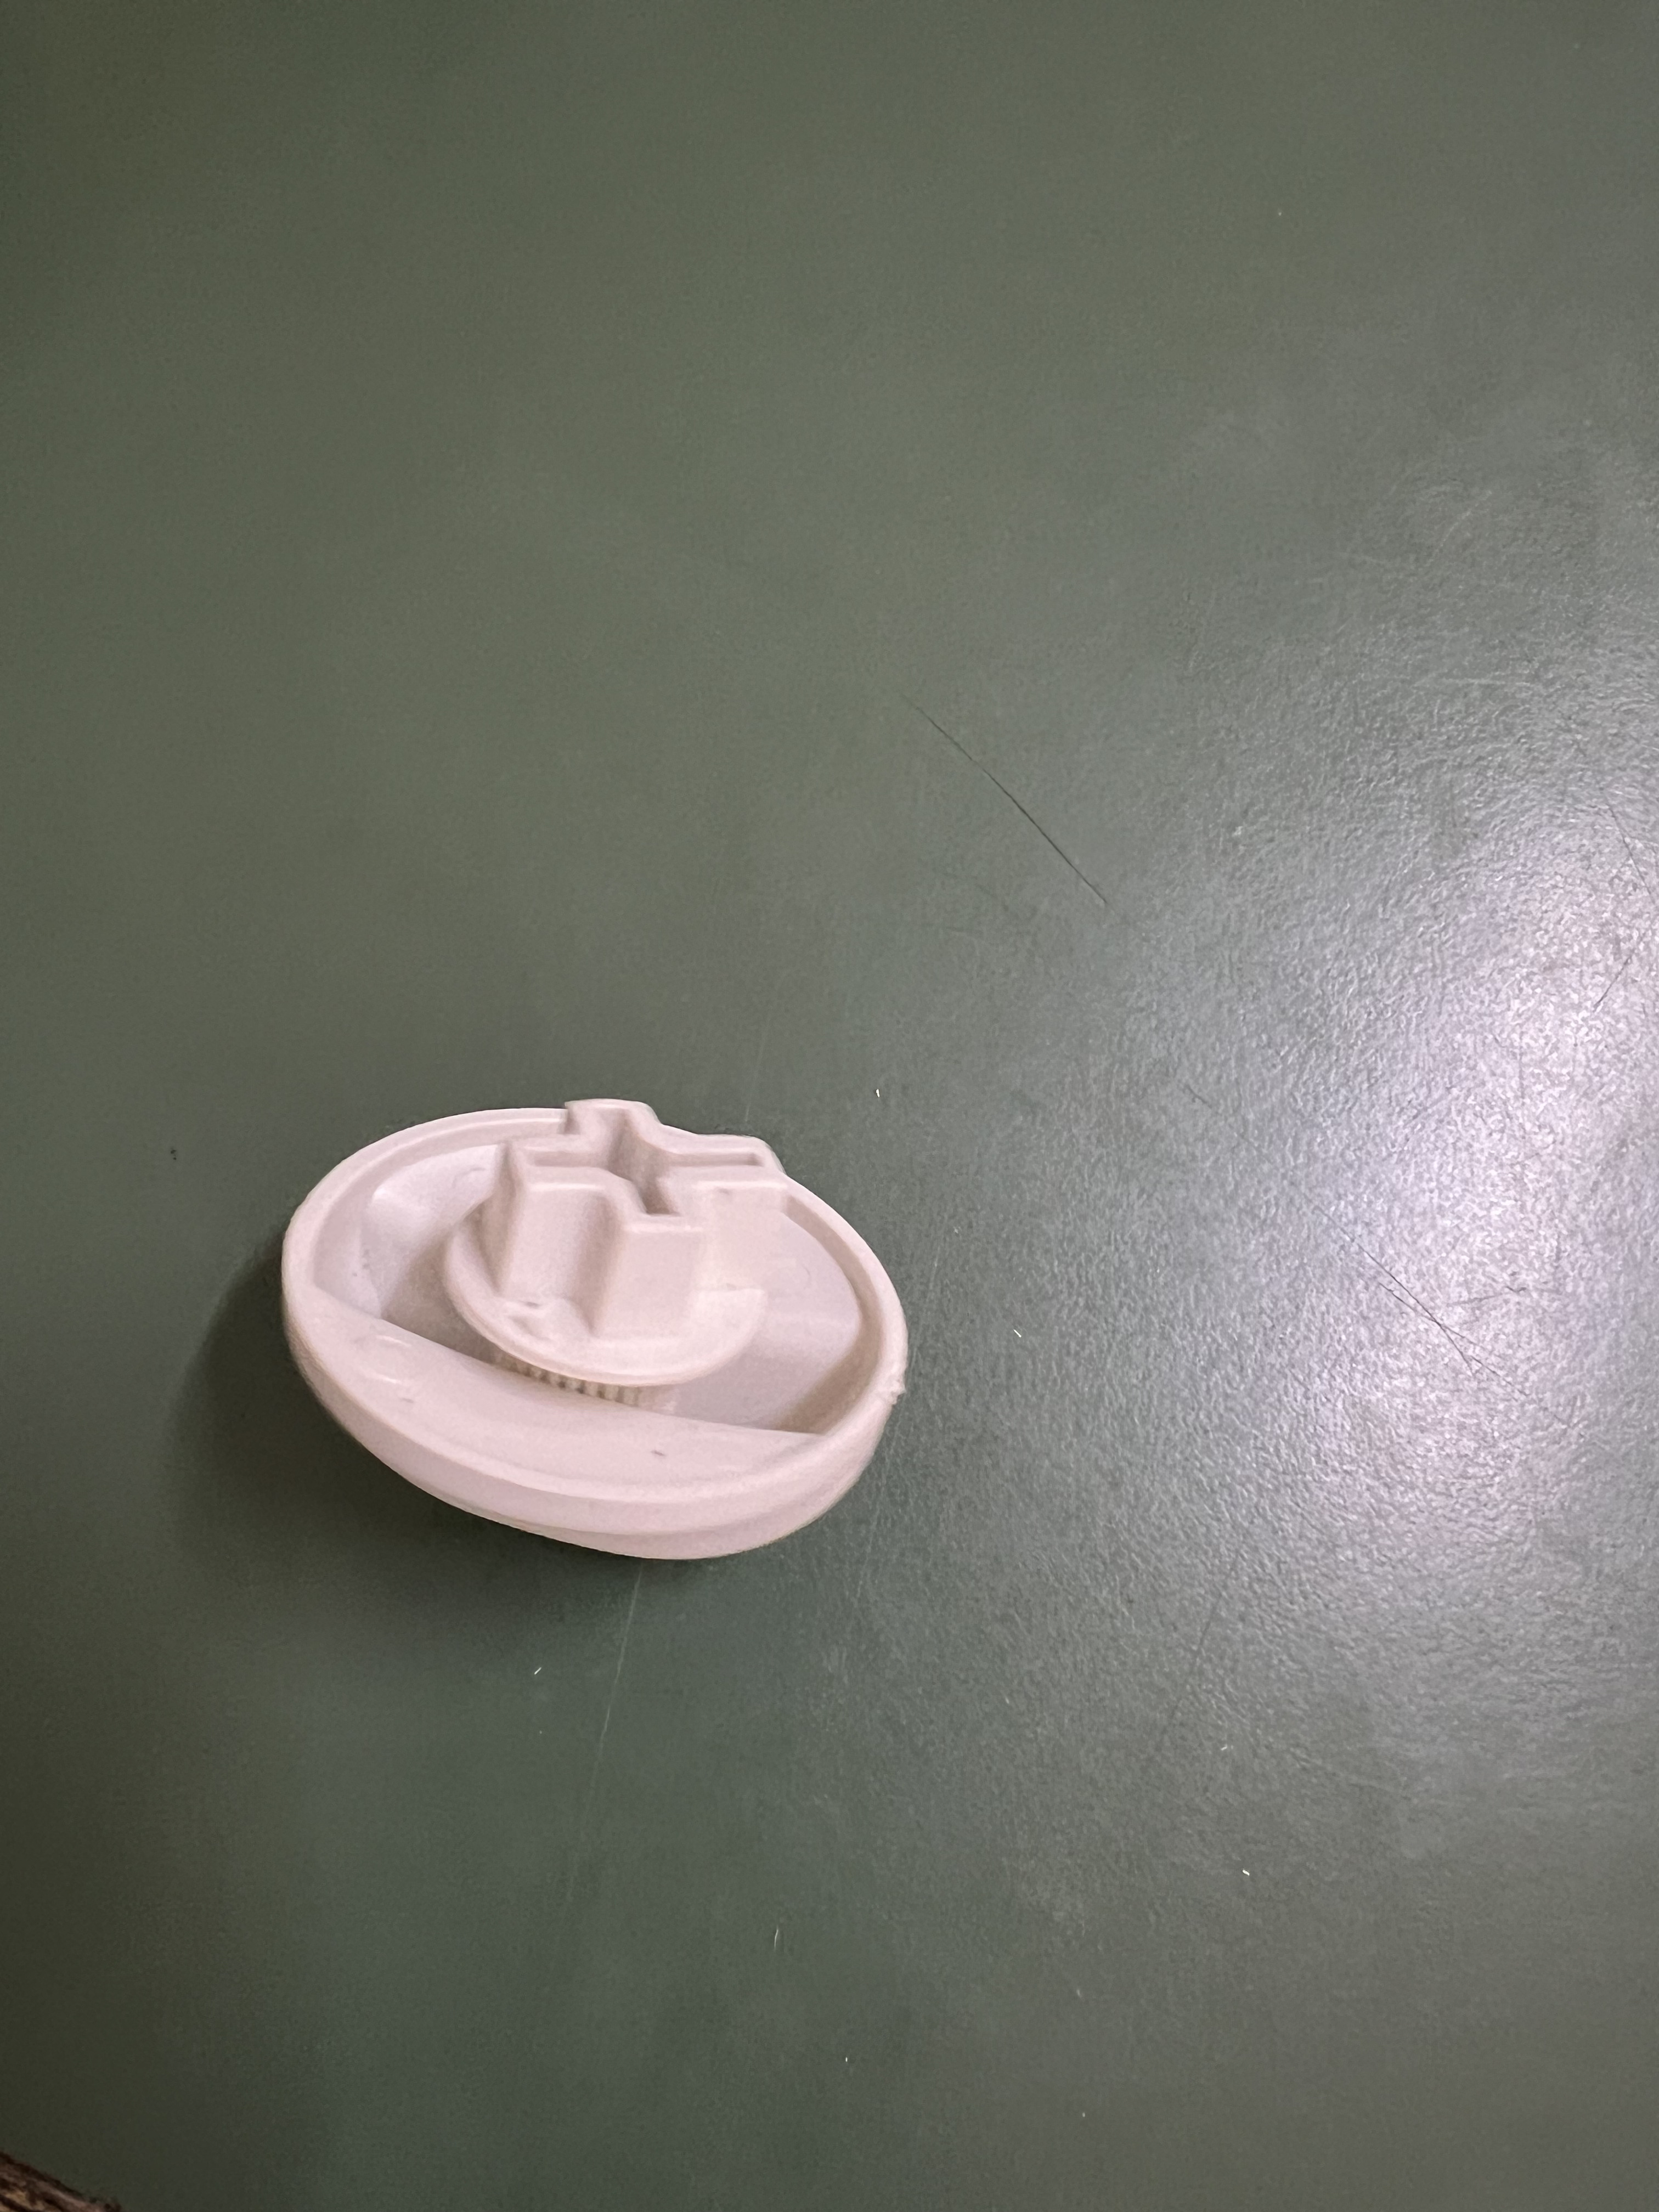regulator: (216, 1064, 1042, 1566)
